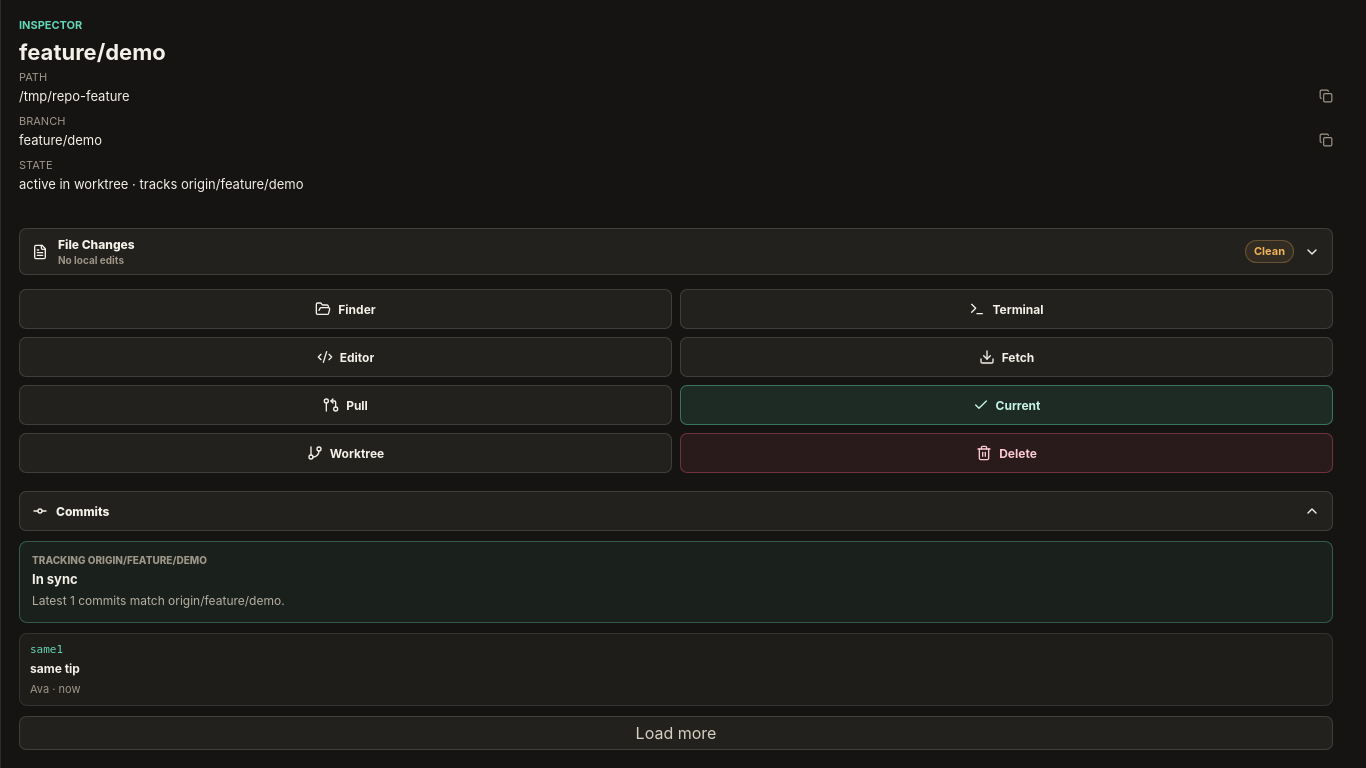
Scenario: Inspector › loads more matching commit pages into the local timeline
The width and height of the screenshot is (1366, 768).
(page scrolled)
Expected: the text "Latest 1 commits match origin/feature/demo." is shown, [32,593,285,608]
Expected: the text "same tip" is shown, [30,661,80,676]
Click the button "Load more". click: {"x": 676, "y": 733}
box: [19,716,1333,750]
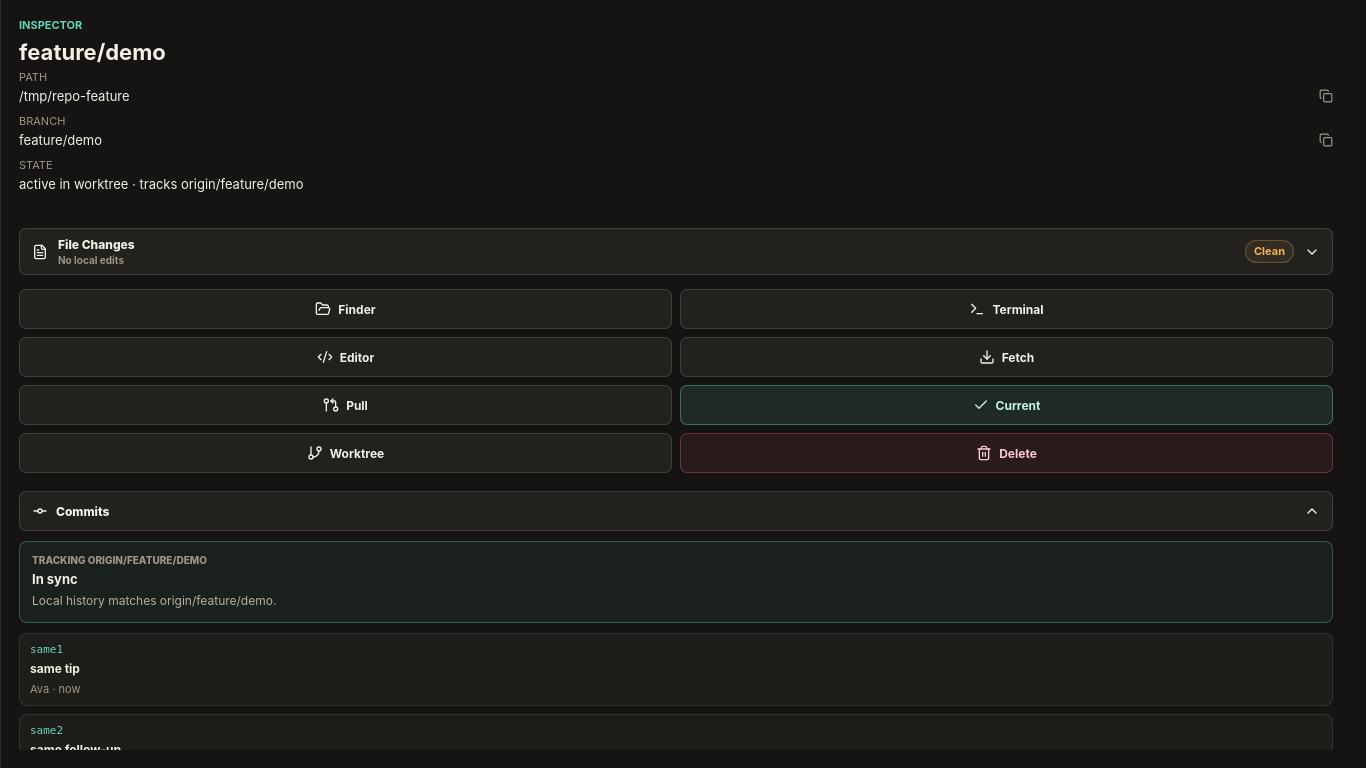
Expected: the text "Local history matches origin/feature/demo." is shown, [32,593,276,608]
Expected: the button "Load more" is gone
